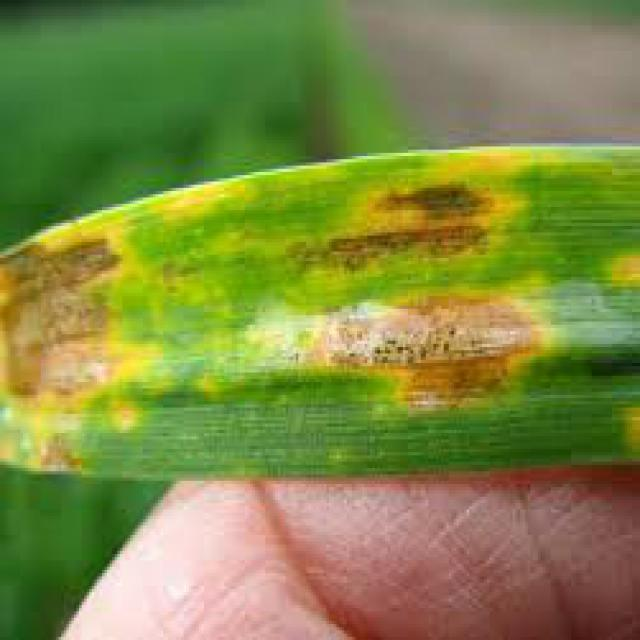wheat-septoria: (311, 296, 546, 415), (0, 232, 157, 404), (303, 180, 532, 274), (38, 433, 85, 474)
